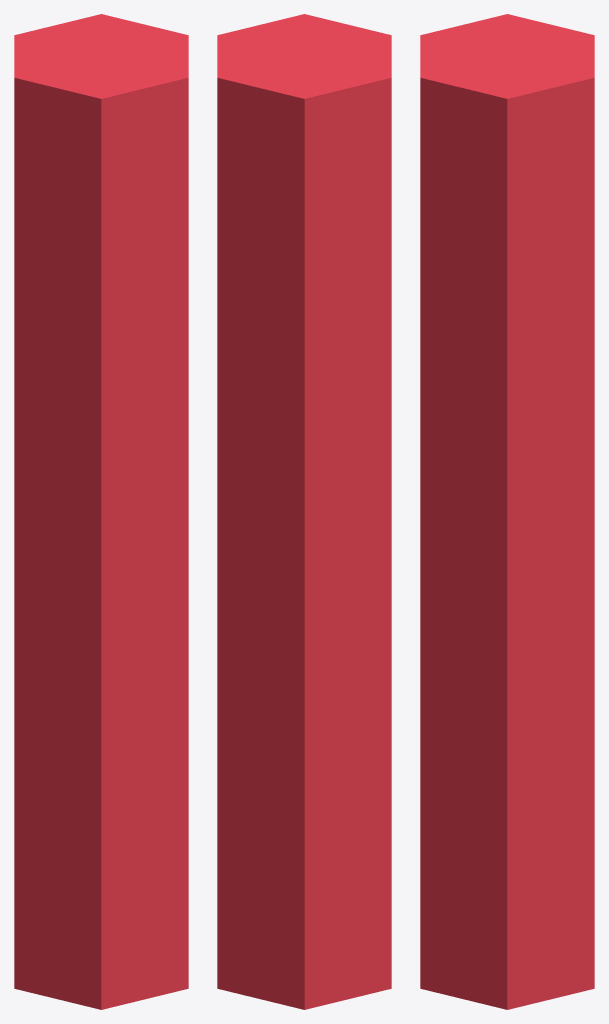
Rendered from world.obj.
The picture shows the model from 3 angles, left to right: view 1: azimuth 30°, elevation 25°; view 2: azimuth 150°, elevation 25°; view 3: azimuth 270°, elevation 25°; orthographic projection.
Parts seen in each view (by area): view 1: 円; view 2: 円; view 3: 円.
Boxes of the visible parts, x1,y1,x2,y2 form: 円: (14, 14, 188, 1009); 円: (217, 14, 391, 1009); 円: (420, 14, 594, 1009).
Size of the model in its own units: 2 by 10 by 1.73.
Materials: 1 (1 with a texture image).
